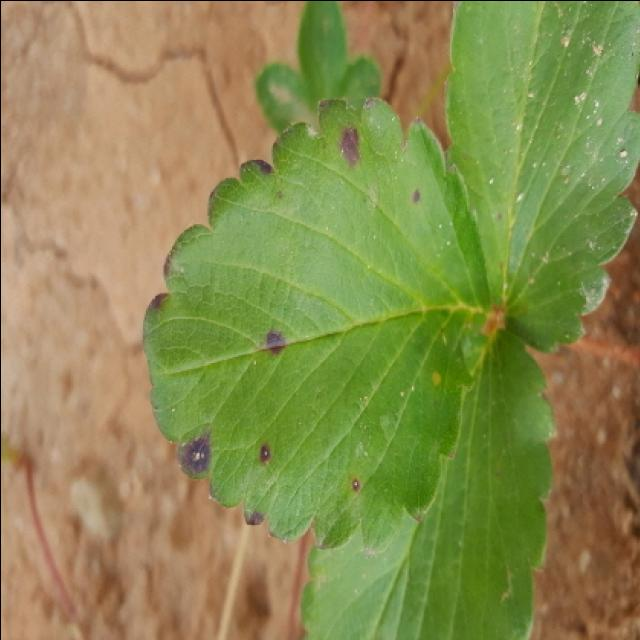Leaf Spot: (140, 93, 496, 552), (443, 2, 640, 352)
